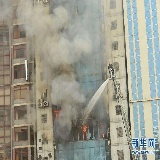fire: (54, 110, 61, 121), (101, 125, 104, 138), (83, 125, 86, 131)
